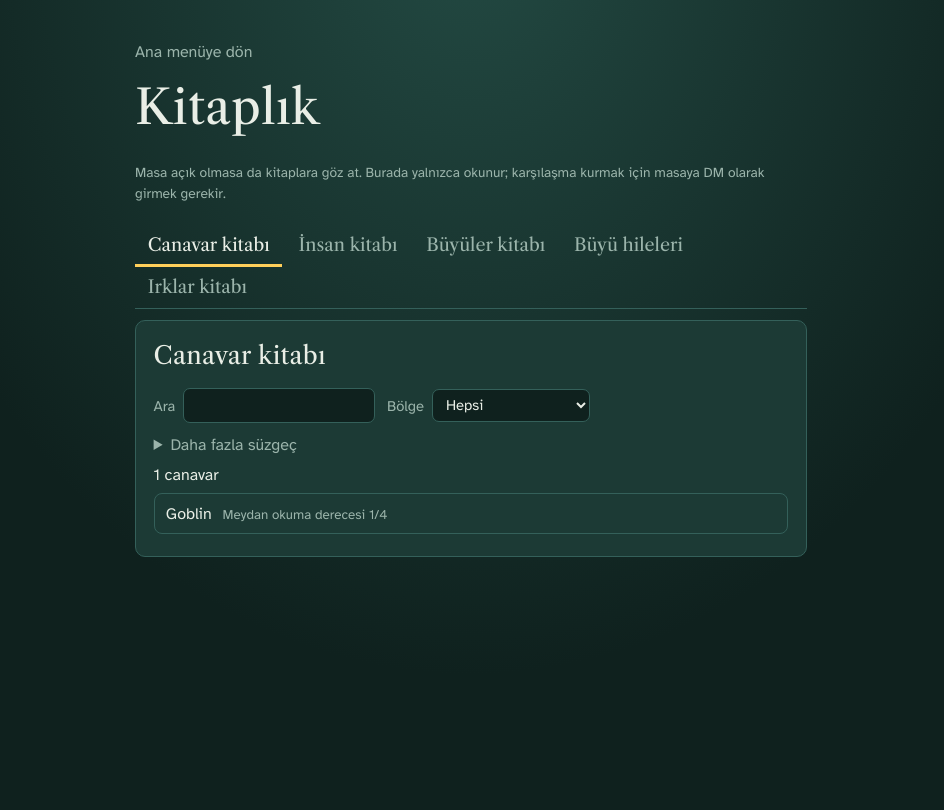
Scenario: kitaplık canavarları giriş olmadan, yalnızca okunur gösterir
The image size is (944, 810).
Step 1. Click the button "Goblin Meydan okuma derecesi 1/4" → (189,514), box [155,494,787,533]
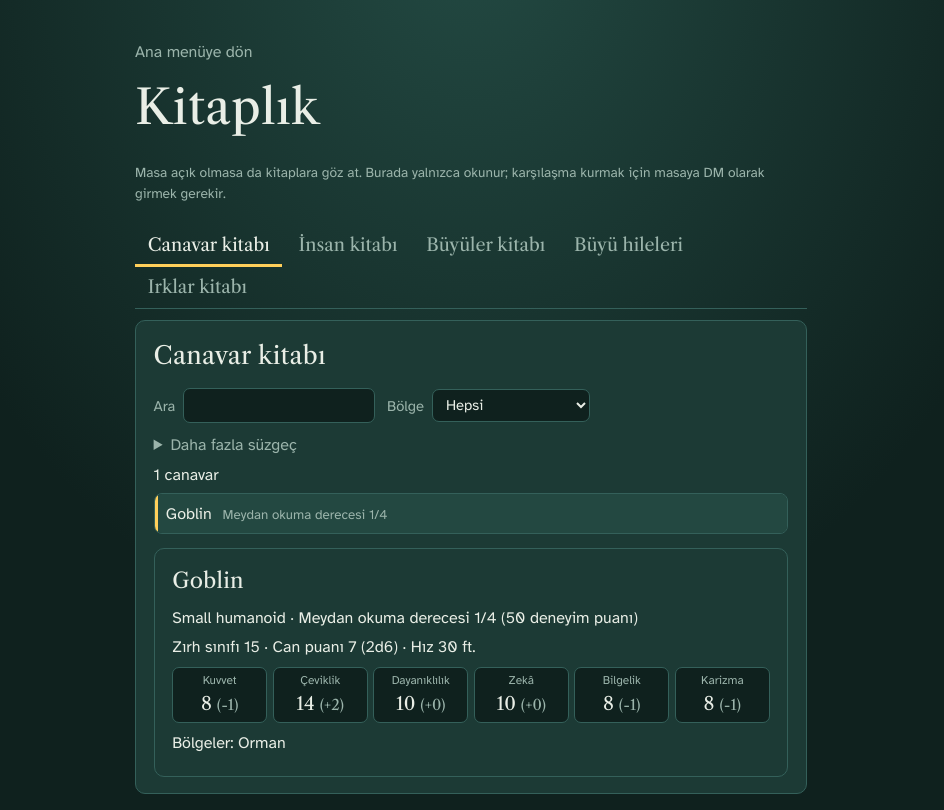
Expected: the text "Bölgeler: Orman" is shown, [172,732,286,752]
